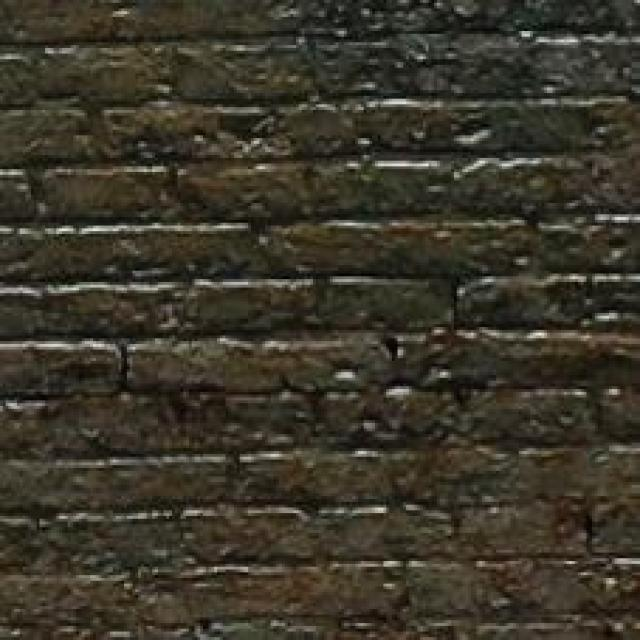Crack: (0, 242, 640, 464)
